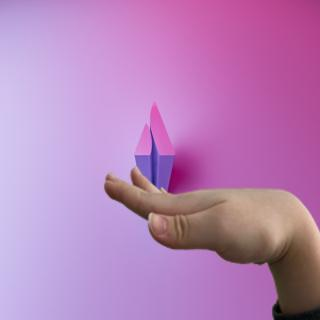Wait: (92, 155, 318, 292)
